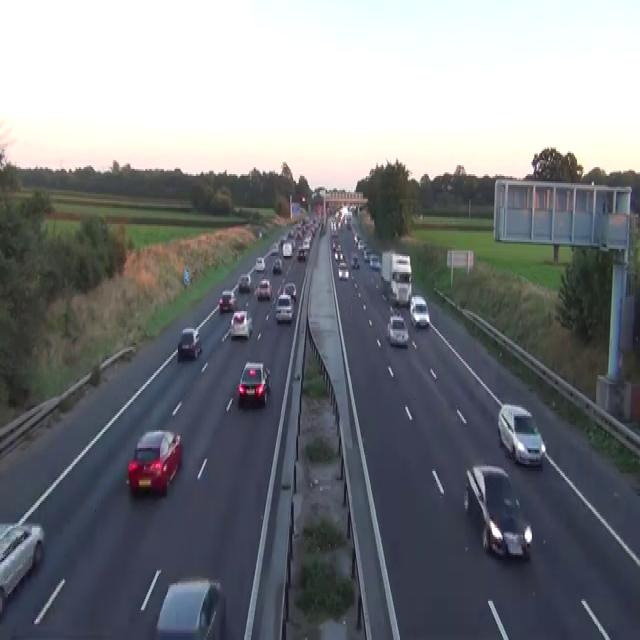Car: (463, 464, 532, 560), (155, 576, 226, 638), (0, 521, 44, 615), (126, 428, 182, 496), (497, 403, 546, 468), (237, 361, 270, 407), (390, 268, 412, 304), (177, 327, 201, 359), (386, 314, 409, 346), (230, 310, 252, 340), (409, 295, 429, 327), (275, 293, 293, 322), (218, 290, 237, 311), (256, 278, 272, 300), (237, 272, 251, 292), (392, 254, 410, 268), (283, 281, 296, 300), (338, 261, 349, 279), (388, 304, 400, 318), (334, 244, 343, 262), (272, 258, 282, 274), (282, 242, 292, 258), (369, 254, 380, 268), (297, 246, 306, 262), (357, 238, 368, 251), (255, 256, 265, 270), (277, 279, 285, 295), (350, 254, 359, 268), (269, 242, 279, 254), (302, 236, 311, 249), (363, 247, 371, 261), (278, 235, 286, 245), (353, 233, 360, 243), (348, 204, 356, 212), (330, 230, 338, 237), (287, 230, 294, 238), (258, 228, 262, 238)
Truck: (380, 249, 412, 306)
